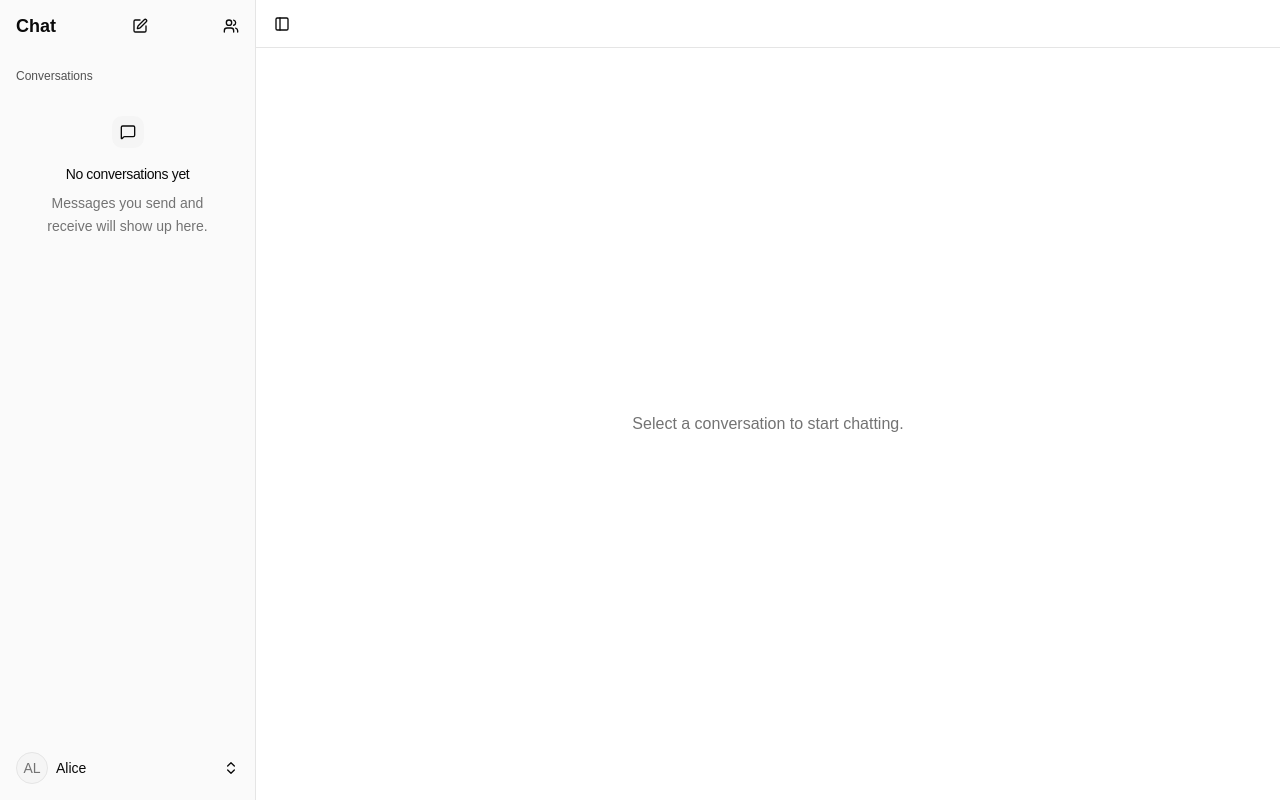
first Direct Message › opens a new Conversation view after picking a User and shows a sent Message
The width and height of the screenshot is (1280, 800).
Expected: the text "No conversations yet" is shown, [66,164,189,184]
Click the button named "new conversation".
click(140, 26)  # box [124,10,156,42]
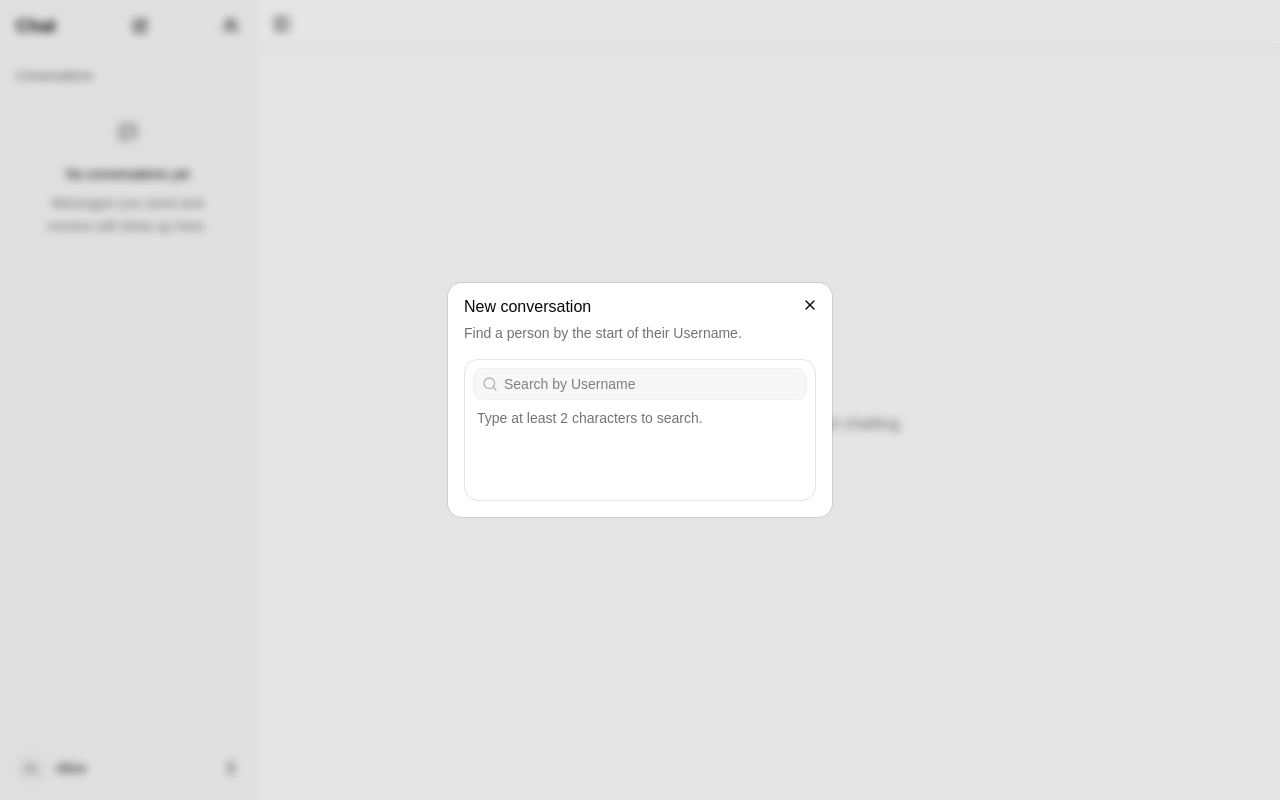
Type "bo" into the dropdown.
click(652, 384); type("bo")  # box [498,374,806,394]
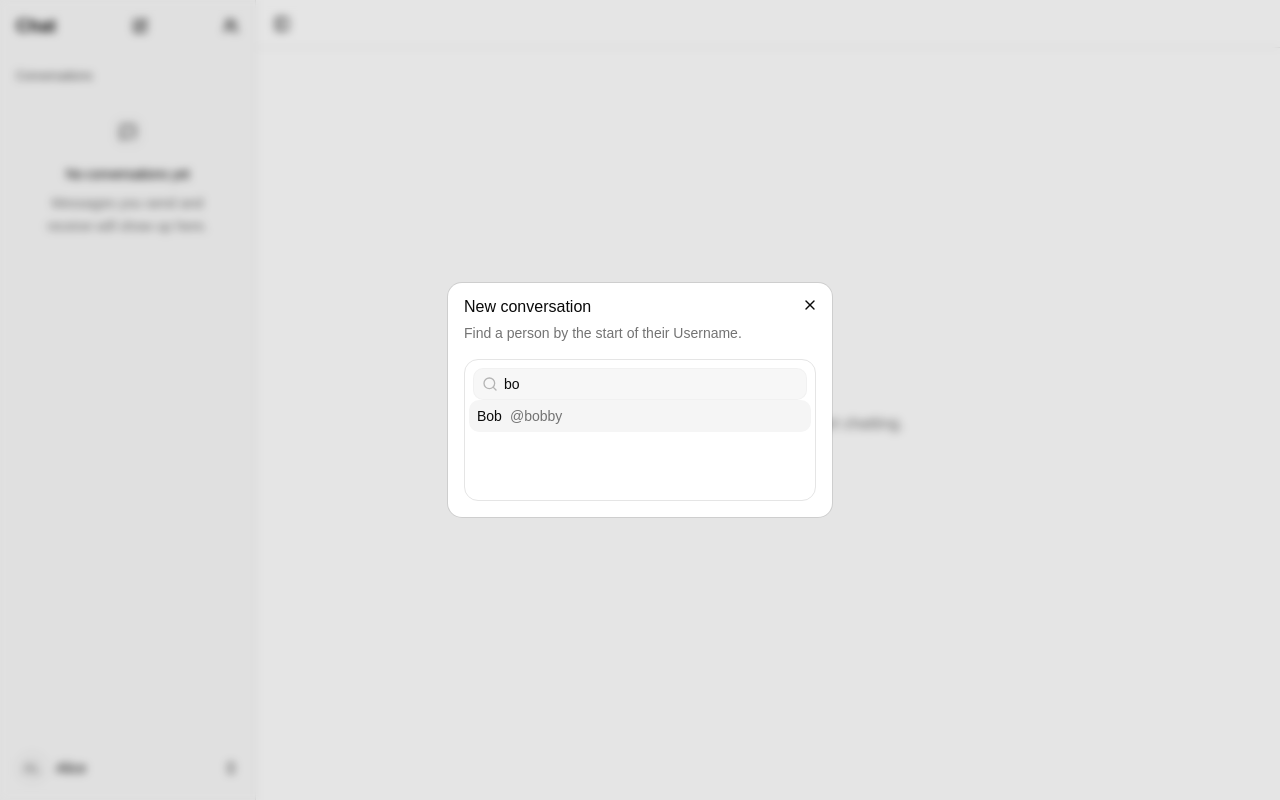
Click the option "Bob @bobby".
click(543, 416)  # box [469,400,811,432]
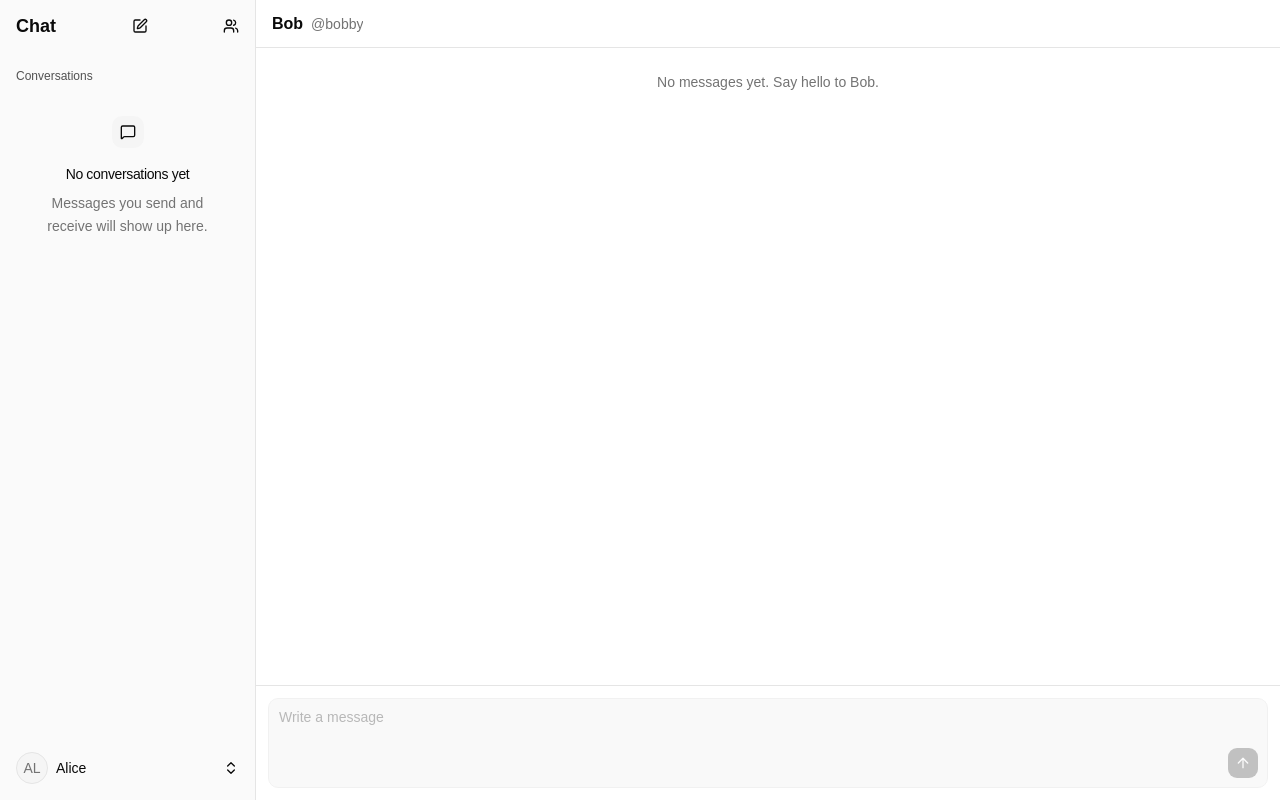
Expected: the heading "Bob" is shown, [272,12,303,36]
Type "hello bob" into the text box labelled "Write a message".
click(768, 719); type("hello bob")  # box [269,699,1267,739]
Then press Enter
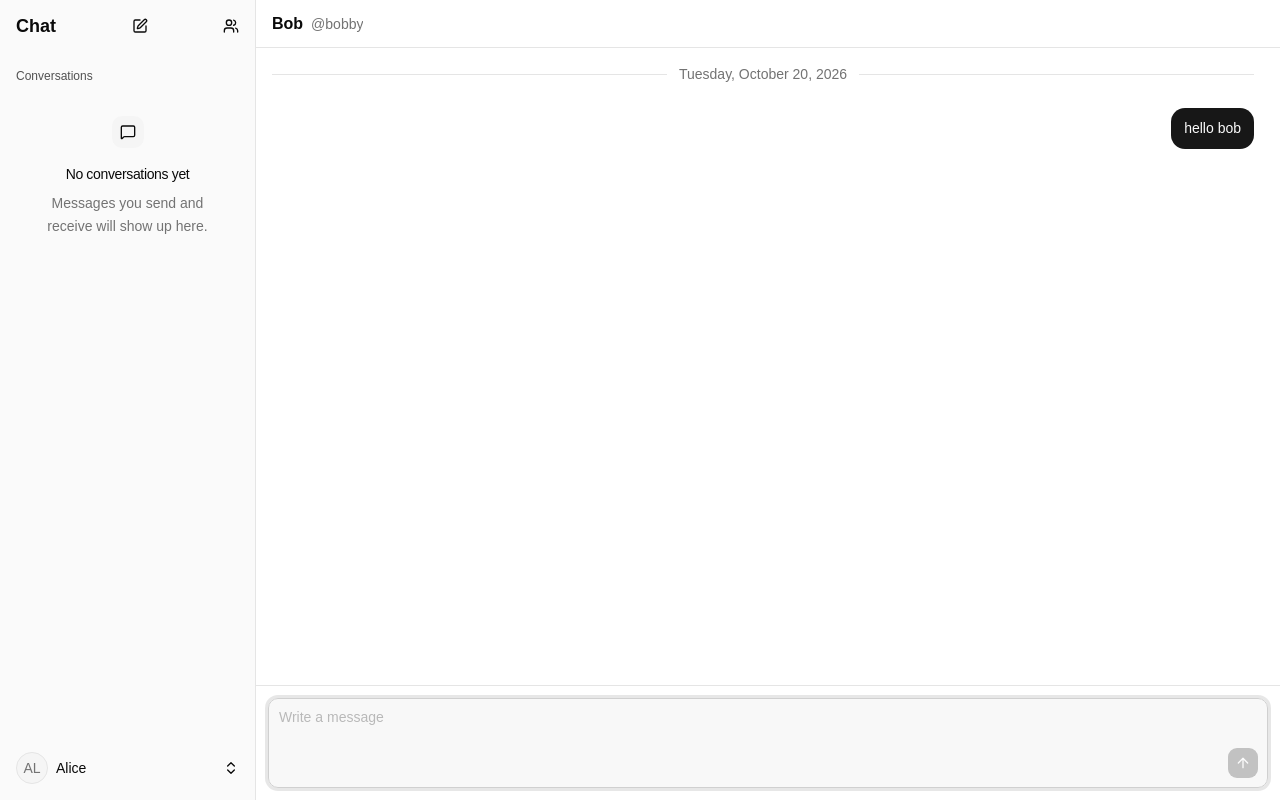
Expected: the text box labelled "Write a message" is empty, [269,699,1267,739]
Expected: the button "hello bob" is shown, [1171,108,1254,149]
